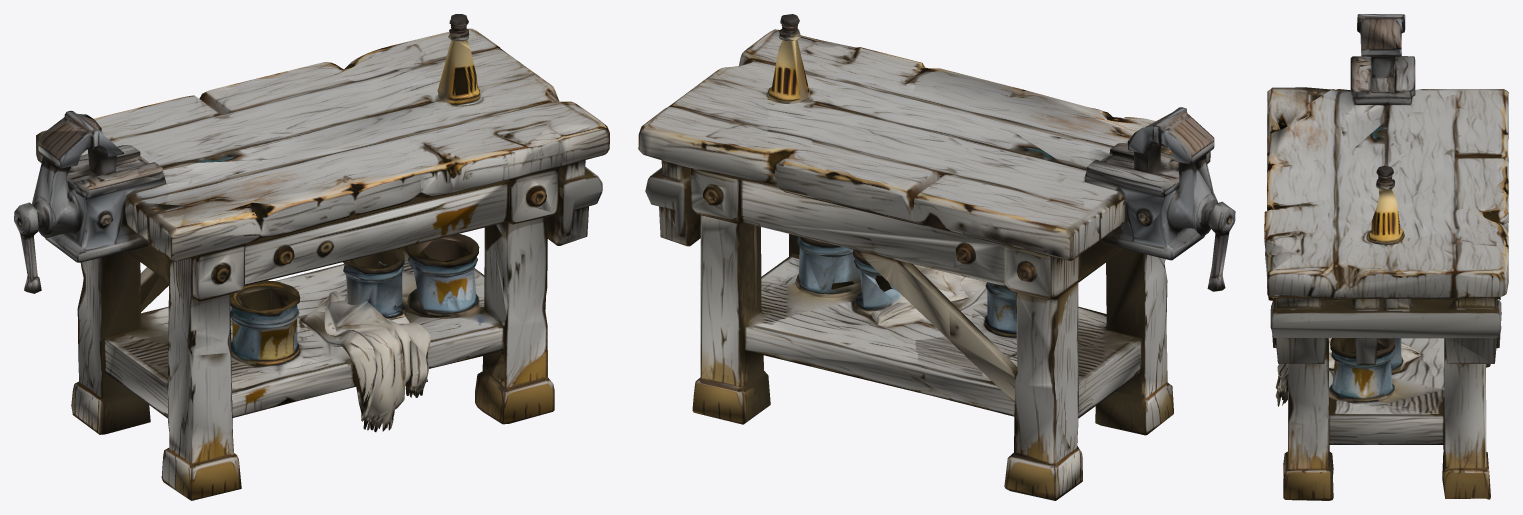
The model's file is lhi_workbench_vice.glb.
The picture shows the model from 3 angles, left to right: view 1: azimuth 30°, elevation 25°; view 2: azimuth 150°, elevation 25°; view 3: azimuth 270°, elevation 25°; orthographic projection. The views are drawn at different scales.
Visible parts, largest first — view 1: material; view 2: material; view 3: material.
Part boxes in pixels (bbox=[...]): material: bbox=[14, 14, 609, 500]; material: bbox=[638, 14, 1235, 500]; material: bbox=[1264, 14, 1508, 500].
Size of the model in its own units: 1.04 by 0.6892 by 0.482.
Materials: 1 (1 with a texture image).
